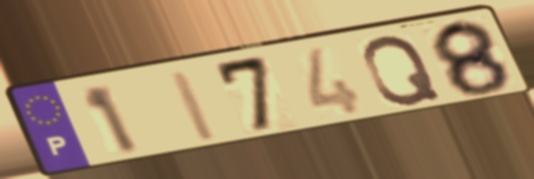1: (81, 81, 144, 157)
4: (304, 45, 366, 117)
7: (209, 53, 279, 137)
8: (426, 16, 517, 99)
I: (165, 67, 223, 145)
Q: (360, 33, 445, 108)
